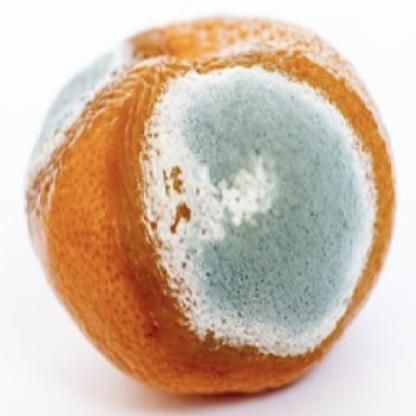rotten: (15, 11, 396, 403)
